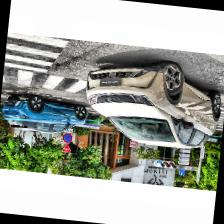EV: (82, 54, 224, 153)
